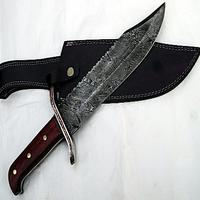knife: (7, 2, 167, 197)
